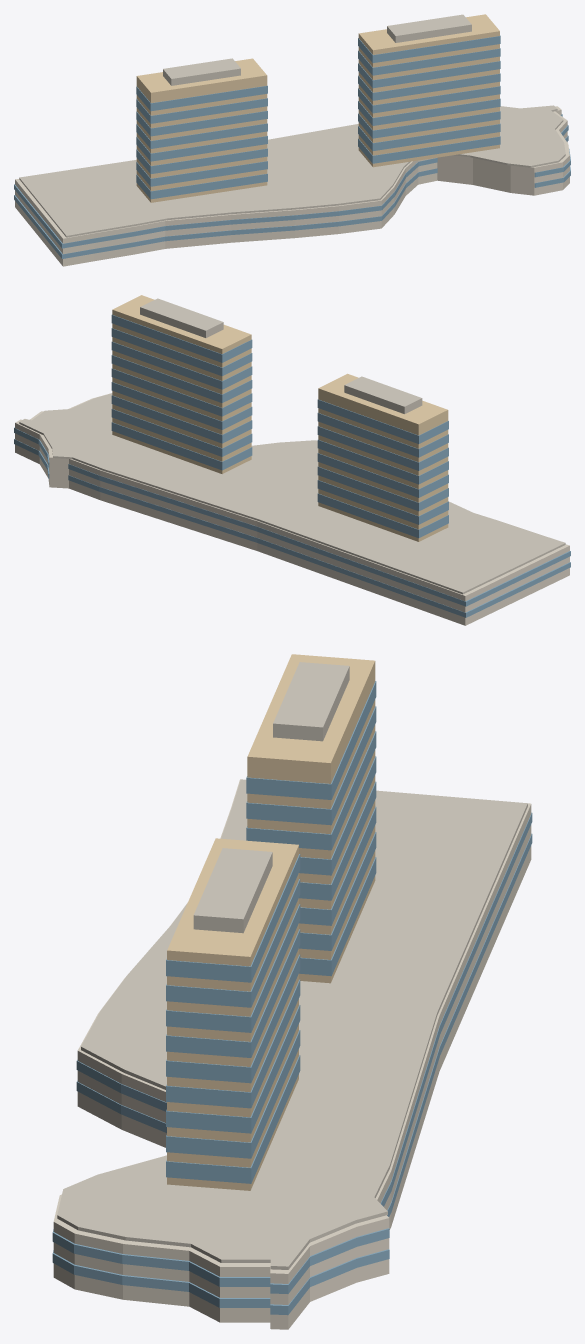
Rendered from lotte.glb.
The picture shows the model from 3 angles, top to bottom: view 1: azimuth 30°, elevation 25°; view 2: azimuth 150°, elevation 25°; view 3: azimuth 270°, elevation 25°; orthographic projection. The views are drawn at different scales.
Visible parts, largest first — view 1: part; view 2: part; view 3: part.
Part boxes in pixels (x1,y1,x2,y2): part: (14, 14, 570, 266); part: (14, 295, 570, 625); part: (52, 654, 532, 1329).
Bounding box in the file's own units: 305 × 87.98 × 124.
